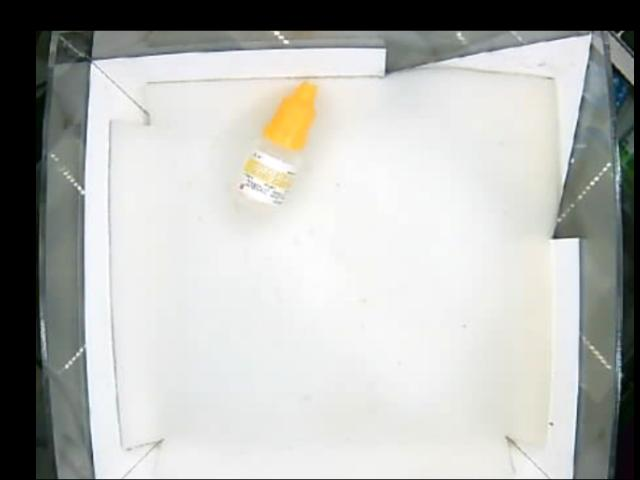Bottle: (238, 81, 318, 212)
